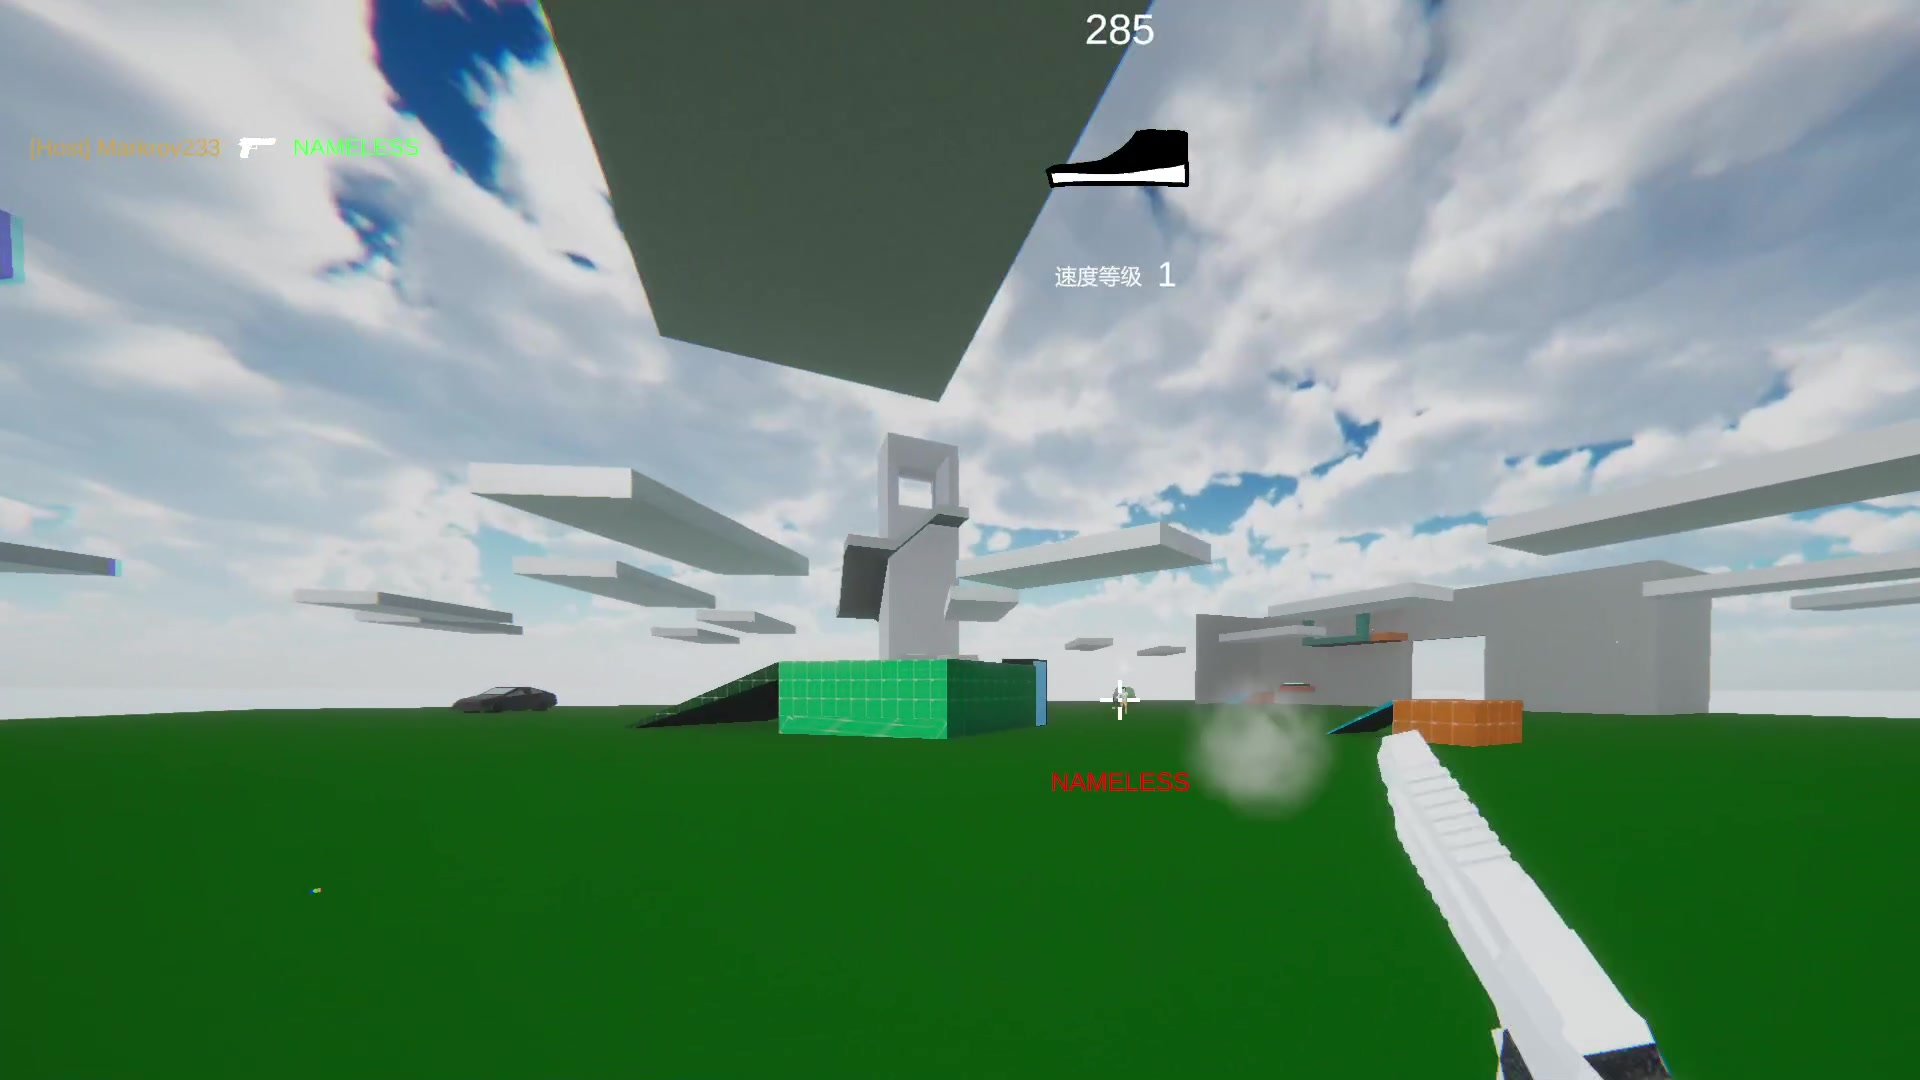human: (1116, 686, 1129, 720)
